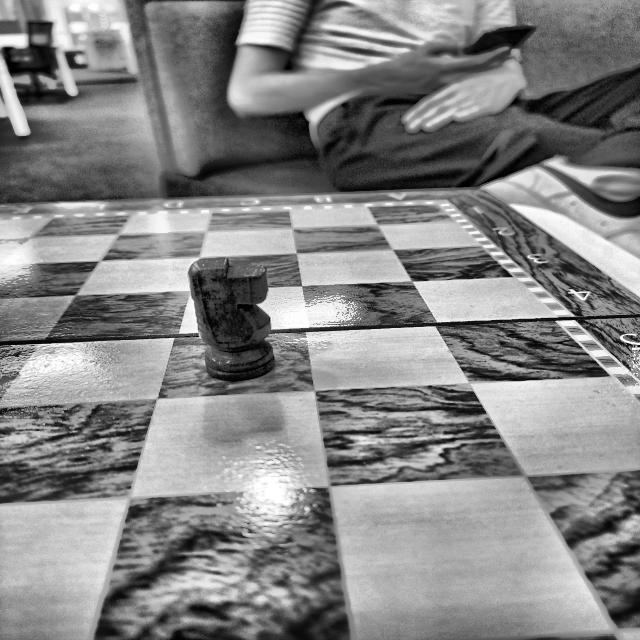black-knight: (188, 257, 275, 381)
